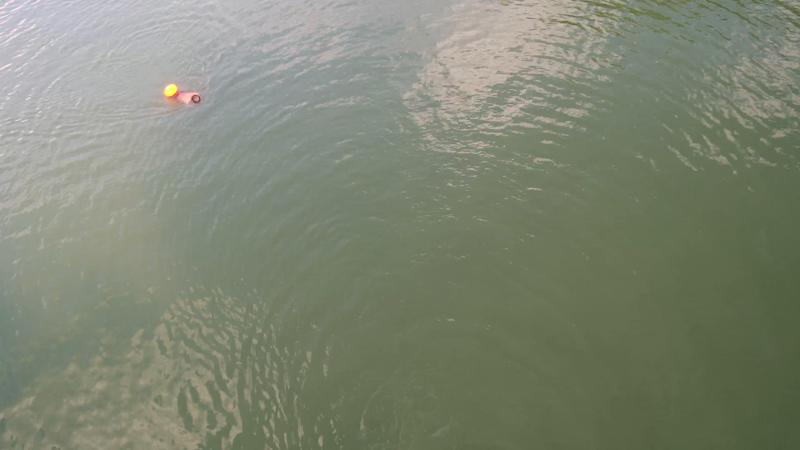swimmers: (160, 81, 203, 111)
